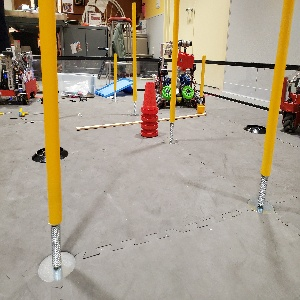Red_4: (139, 78, 159, 138)
